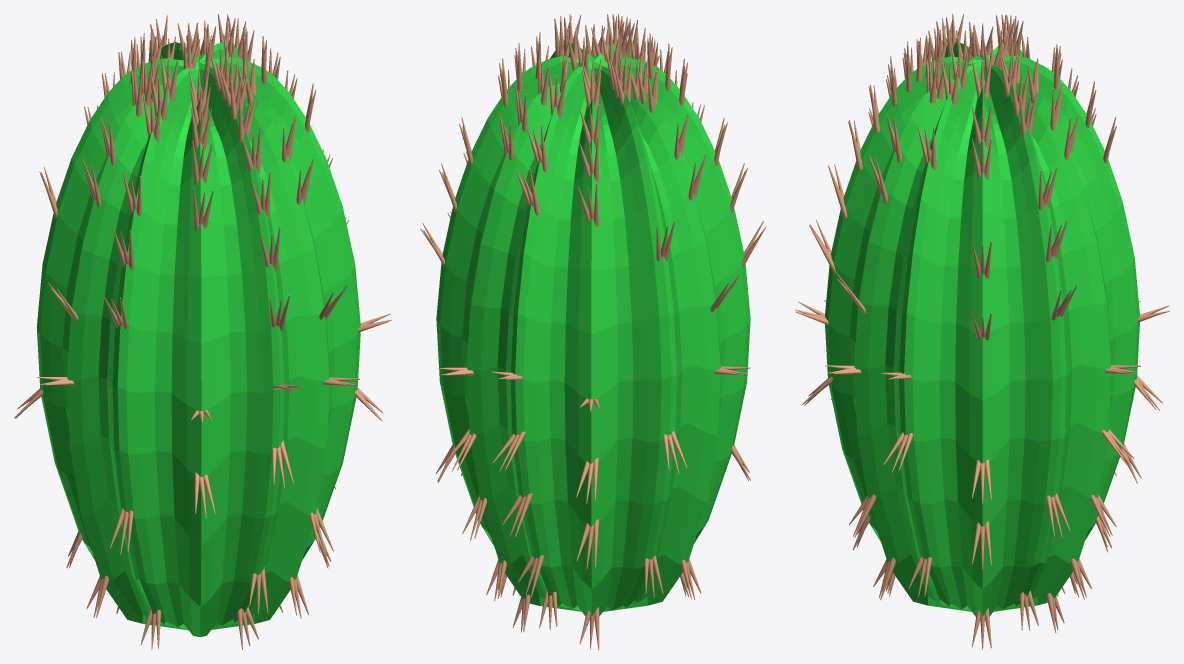
The model's file is Tallcacti.fbx.
3 views of the same model, side by side, from view 1: azimuth 30°, elevation 25°; view 2: azimuth 150°, elevation 25°; view 3: azimuth 270°, elevation 25° (orthographic). The views are drawn at different scales.
Visible parts, largest first — view 1: Cactus4; view 2: Cactus4; view 3: Cactus4.
Boxes of the visible parts, left/top/right/bottom form: Cactus4: left=36, top=42, right=360, bottom=637; Cactus4: left=436, top=43, right=750, bottom=616; Cactus4: left=825, top=42, right=1139, bottom=616.
Size of the model in its own units: 87.8 by 164 by 95.25.
